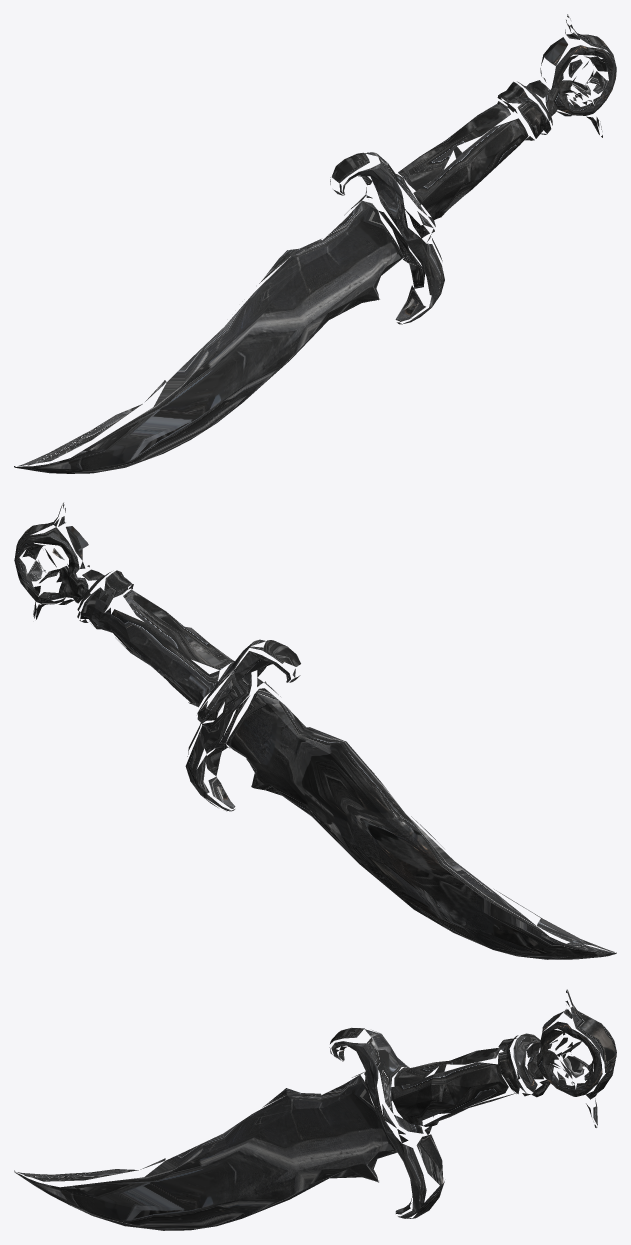
Rendered from dagger.glb.
The picture shows the model from 3 angles, top to bottom: view 1: azimuth 30°, elevation 25°; view 2: azimuth 150°, elevation 25°; view 3: azimuth 330°, elevation 25°; orthographic projection.
Parts seen in each view (by area): view 1: mesh; view 2: mesh; view 3: mesh.
Part boxes in pixels (x1,y1,x2,y2): mesh: (14, 14, 616, 473); mesh: (14, 502, 616, 959); mesh: (14, 989, 616, 1230).
Bounding box in the file's own units: 2 × 1.1 × 0.2274.
Materials: 1 (1 with a texture image).
